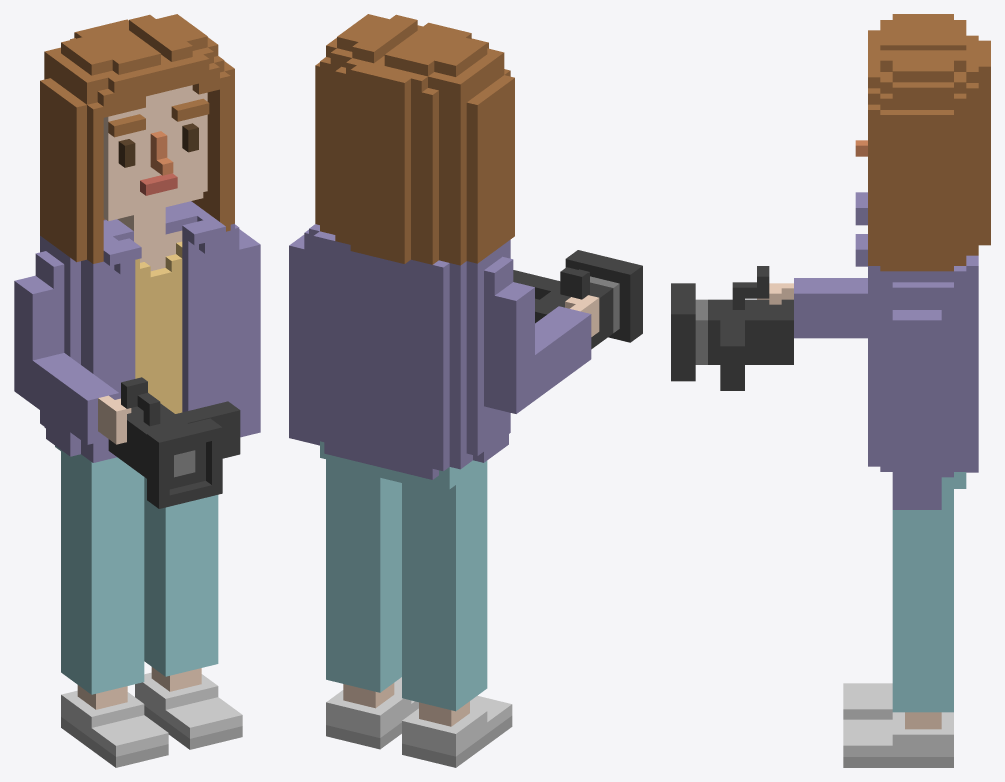
The model's file is maria.gltf.
The picture shows the model from 3 angles, left to right: view 1: azimuth 30°, elevation 25°; view 2: azimuth 150°, elevation 25°; view 3: azimuth 270°, elevation 25°; orthographic projection. The views are drawn at different scales.
Visible parts, largest first — view 1: m.vox-2; view 2: m.vox-2; view 3: m.vox-2.
Boxes of the visible parts, x1=… form: m.vox-2: x1=14, y1=14, x2=260, y2=767; m.vox-2: x1=289, y1=14, x2=642, y2=767; m.vox-2: x1=671, y1=14, x2=990, y2=767.
Bounding box in the file's own units: 2.1 × 6.2 × 2.6.
Materials: 1 (1 with a texture image).
